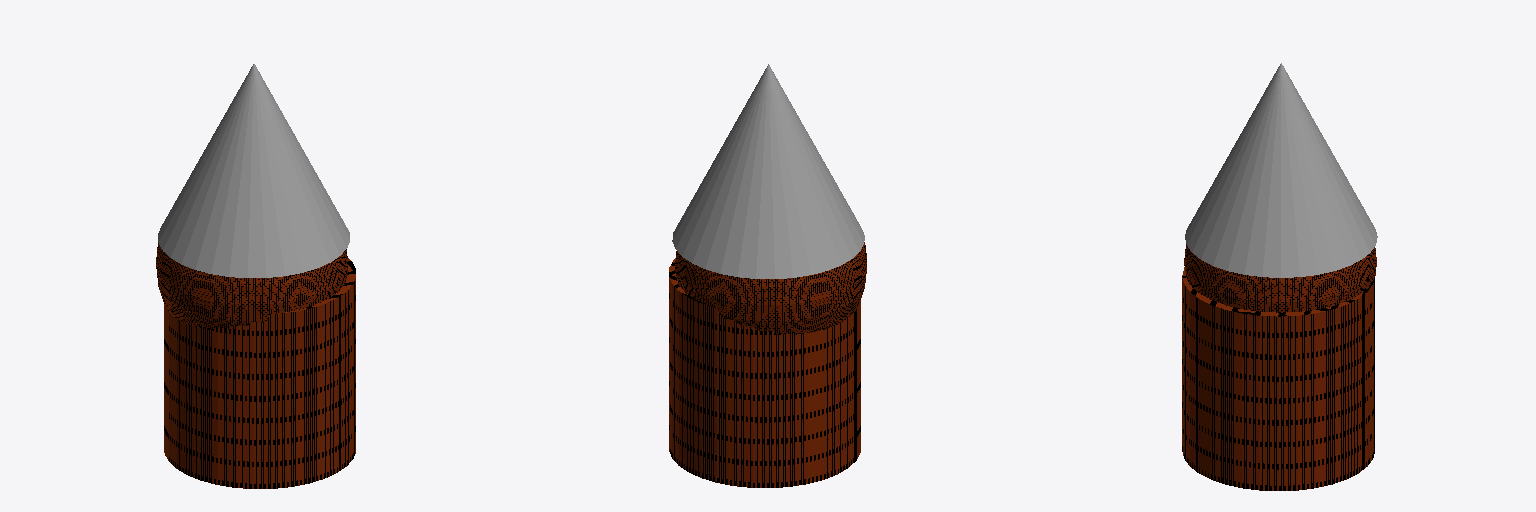
The picture shows the model from 3 angles: view 1: azimuth 30°, elevation 25°; view 2: azimuth 150°, elevation 25°; view 3: azimuth 270°, elevation 25°; orthographic projection.
Visible parts, largest first — view 1: Cylinder_Cylinder.001_Material.004, Cone_Cone.001_Material.003, Sphere_Sphere.003_Material.002; view 2: Cylinder_Cylinder.001_Material.004, Cone_Cone.001_Material.003, Sphere_Sphere.003_Material.002; view 3: Cylinder_Cylinder.001_Material.004, Cone_Cone.001_Material.003, Sphere_Sphere.003_Material.002.
Part boxes in pixels (left/top/right/bottom): Cylinder_Cylinder.001_Material.004: left=164, top=258, right=355, bottom=488; Cone_Cone.001_Material.003: left=158, top=64, right=349, bottom=277; Sphere_Sphere.003_Material.002: left=156, top=243, right=347, bottom=328; Cylinder_Cylinder.001_Material.004: left=669, top=258, right=860, bottom=487; Cone_Cone.001_Material.003: left=672, top=64, right=864, bottom=278; Sphere_Sphere.003_Material.002: left=675, top=242, right=866, bottom=334; Cylinder_Cylinder.001_Material.004: left=1182, top=267, right=1374, bottom=490; Cone_Cone.001_Material.003: left=1185, top=63, right=1377, bottom=277; Sphere_Sphere.003_Material.002: left=1184, top=244, right=1376, bottom=312.
Size of the model in its own units: 2.08 by 4.41 by 2.03.
Materials: 3 (1 with a texture image).